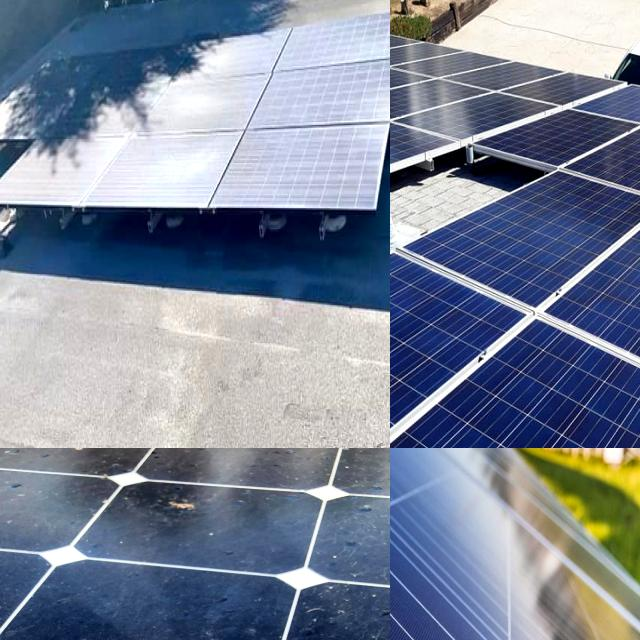crack: (399, 185, 640, 323), (390, 448, 518, 640), (390, 538, 543, 640), (532, 110, 636, 182), (484, 218, 574, 290), (468, 385, 550, 448), (525, 392, 614, 448), (587, 120, 640, 206), (390, 277, 447, 353), (417, 417, 520, 448), (390, 351, 428, 431)
dust: (243, 132, 374, 204), (276, 72, 384, 116), (124, 139, 203, 196), (288, 24, 390, 56), (172, 84, 243, 129), (197, 42, 270, 70), (15, 164, 77, 190)
